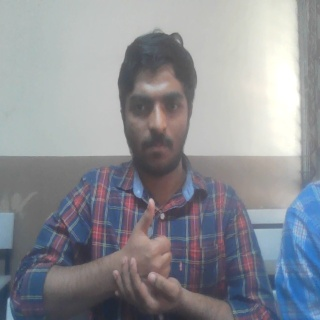Face: (115, 28, 197, 178)
Help: (103, 194, 188, 316)
